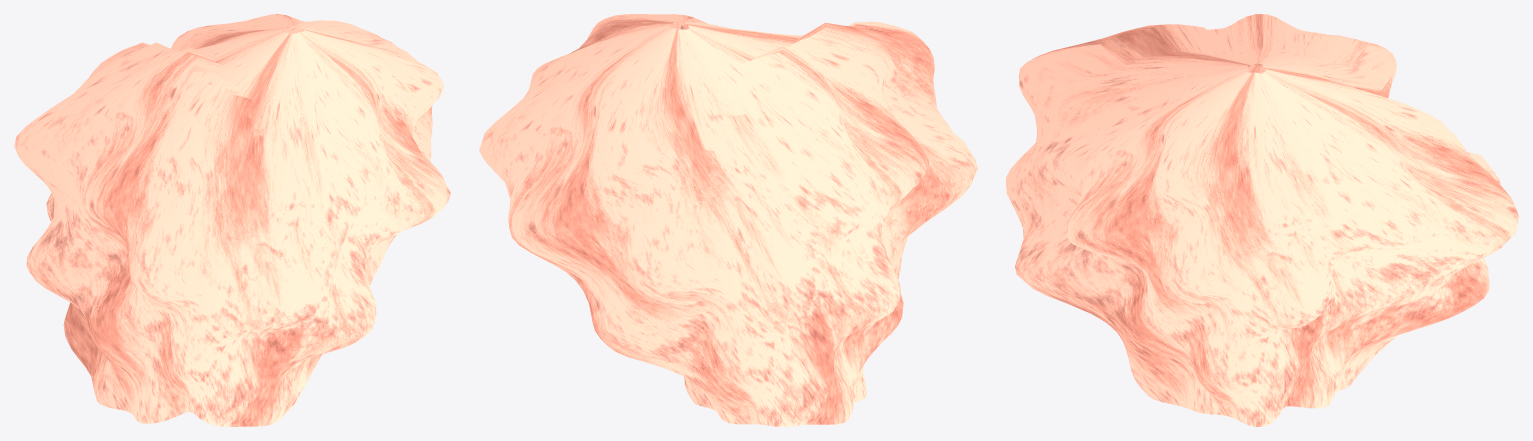
File: devil_plume.glb
The picture shows the model from 3 angles, left to right: view 1: azimuth 30°, elevation 25°; view 2: azimuth 150°, elevation 25°; view 3: azimuth 270°, elevation 25°; orthographic projection. The views are drawn at different scales.
Parts seen in each view (by area): view 1: devil_plume; view 2: devil_plume; view 3: devil_plume.
Part boxes in pixels (box(x1,y1,x2,y2)): devil_plume: box(14, 14, 450, 426); devil_plume: box(479, 14, 977, 426); devil_plume: box(1006, 14, 1518, 426).
Size of the model in its own units: 27.88 by 24.05 by 30.77.
1 material, 1 textured.
